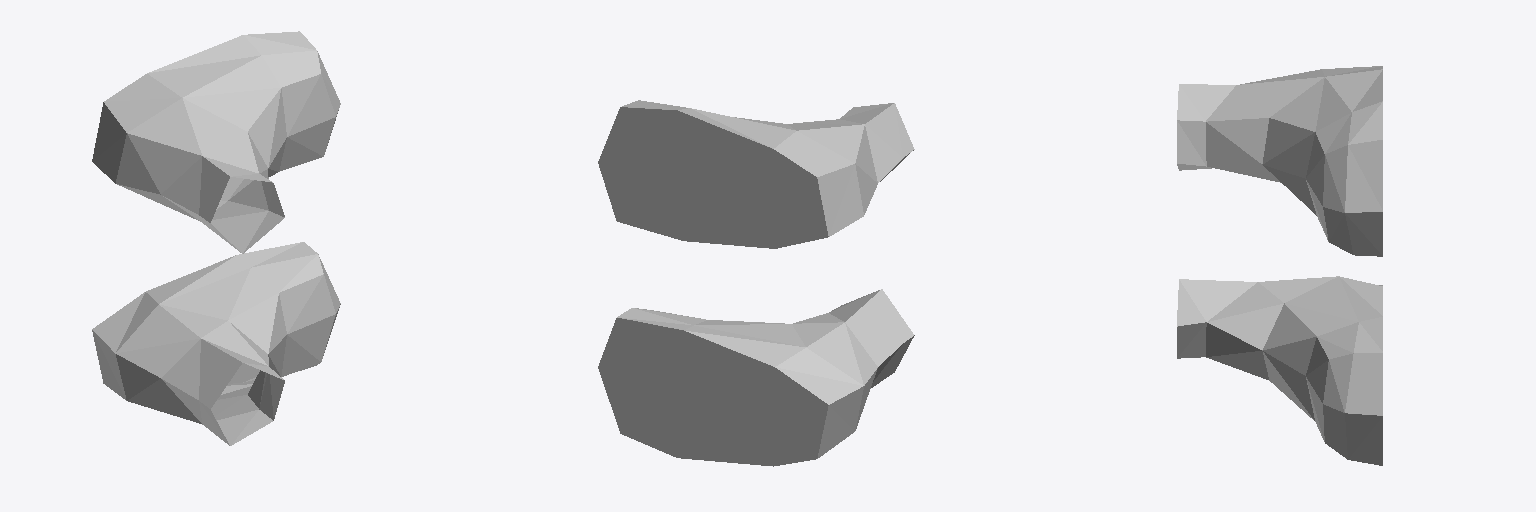
The picture shows the model from 3 angles: view 1: azimuth 30°, elevation 25°; view 2: azimuth 150°, elevation 25°; view 3: azimuth 270°, elevation 25°; orthographic projection.
Parts seen in each view (by area): view 1: rg_foot_005; view 2: rg_foot_005; view 3: rg_foot_005.
Boxes of the visible parts, x1,y1,x2,y2 form: rg_foot_005: [92, 31, 340, 445]; rg_foot_005: [598, 100, 914, 466]; rg_foot_005: [1177, 66, 1382, 465].
Size of the model in its own units: 31.71 by 44.51 by 23.97.